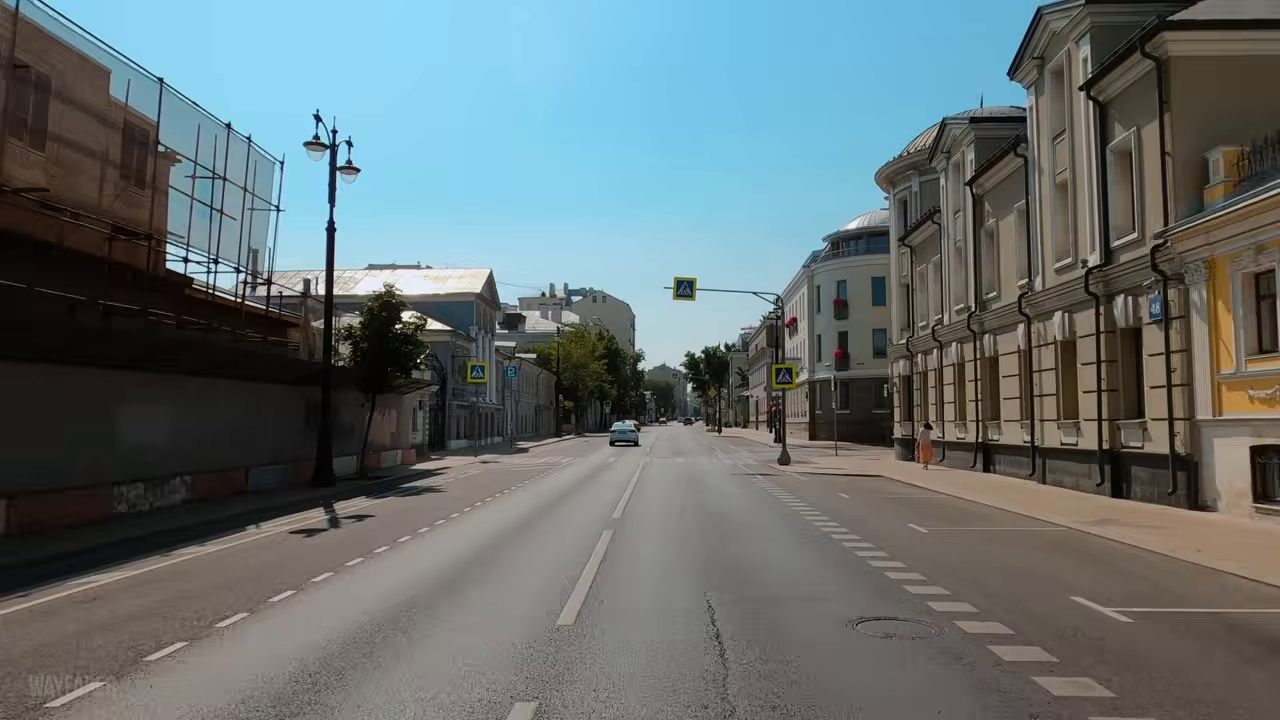apagada: (300, 127, 358, 180), (302, 132, 340, 159)
